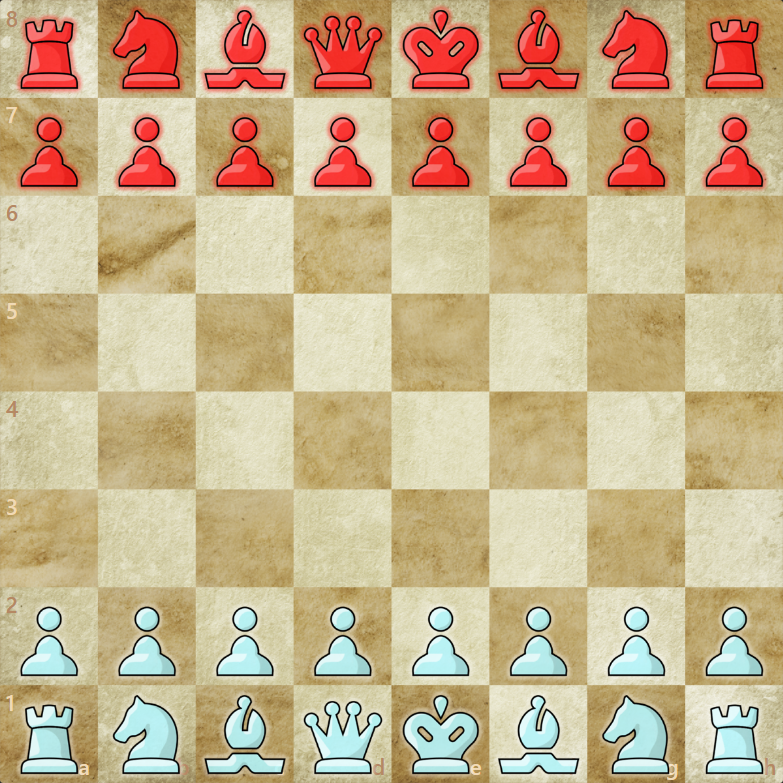B: (201, 692, 288, 778), (499, 691, 582, 781)
K: (399, 691, 480, 778)
N: (599, 693, 671, 778), (113, 692, 184, 777)
P: (18, 603, 80, 680), (116, 603, 178, 680), (212, 604, 274, 681), (312, 604, 374, 681), (409, 603, 471, 680), (507, 602, 569, 679), (606, 604, 668, 681), (704, 603, 766, 680)
Q: (300, 697, 385, 778)
R: (702, 702, 768, 778), (17, 701, 81, 779)
b: (199, 7, 290, 92), (496, 6, 581, 94)
k: (398, 5, 484, 94)
n: (598, 4, 674, 92), (107, 5, 182, 93)
p: (18, 110, 81, 191), (114, 111, 177, 192), (212, 111, 275, 192), (310, 111, 373, 192), (407, 110, 470, 191), (506, 111, 569, 192), (605, 111, 668, 192), (703, 111, 766, 192)
q: (300, 8, 385, 92)
r: (17, 10, 80, 95), (701, 13, 766, 93)
